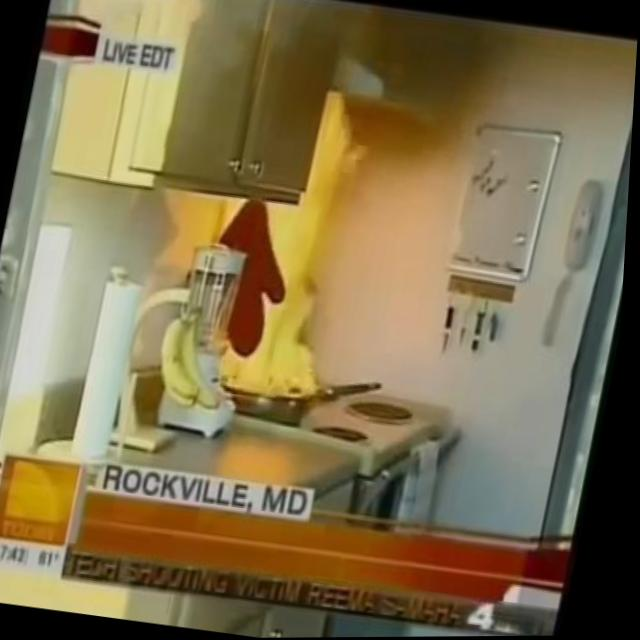fire: (224, 138, 369, 413)
